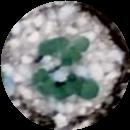Basil: (62, 39, 87, 66), (69, 76, 99, 96), (38, 37, 67, 54), (37, 69, 58, 90)
